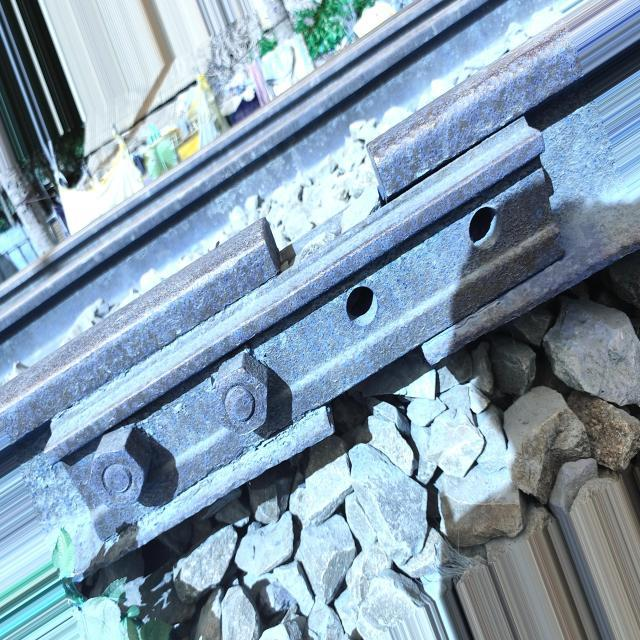Defective Joint: (37, 117, 562, 555)
